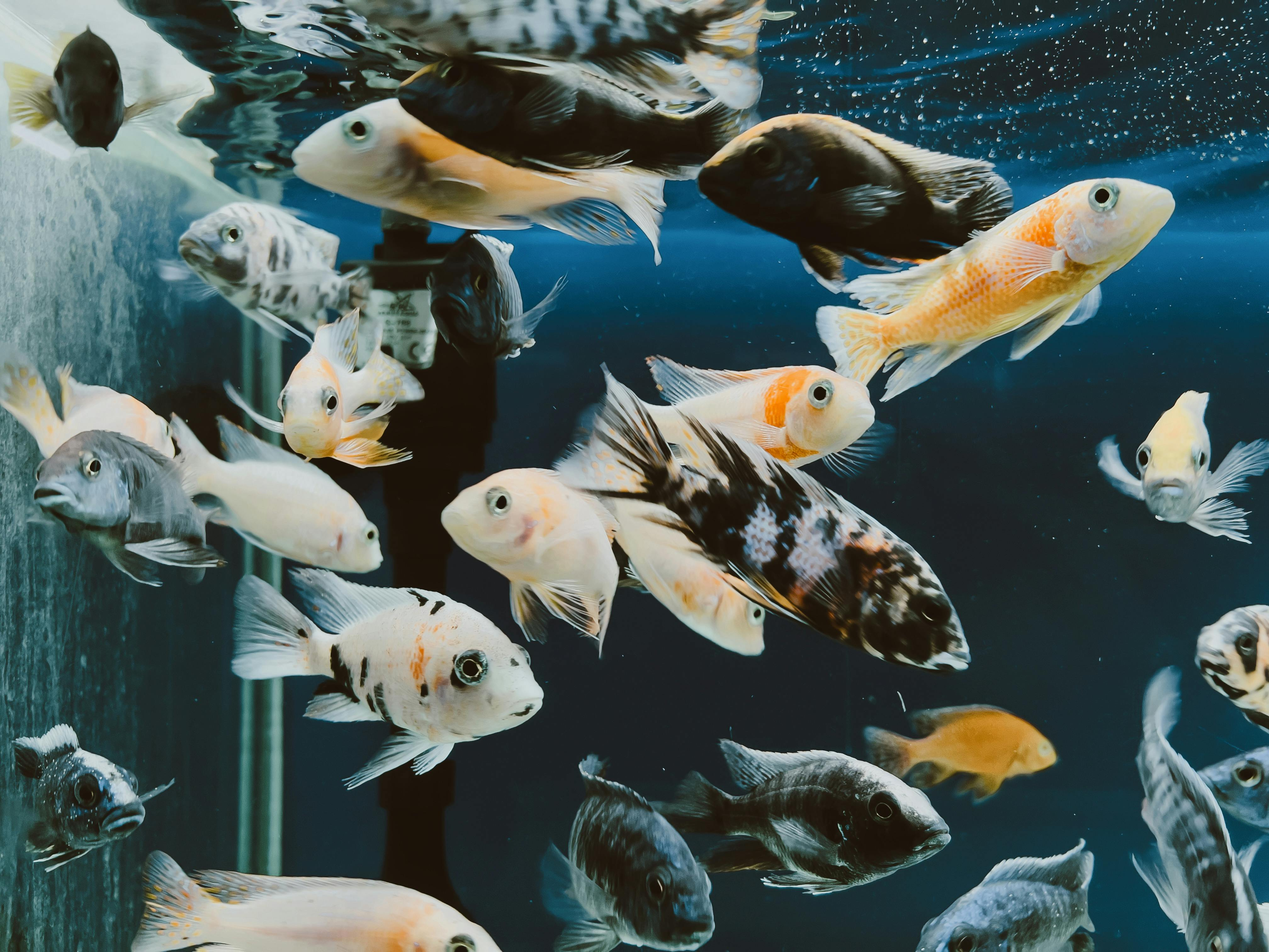fishes: (440, 361, 972, 674), (812, 177, 1178, 409), (289, 97, 698, 257), (262, 562, 545, 789), (695, 112, 1017, 298), (128, 855, 507, 952), (1196, 605, 1268, 737)
